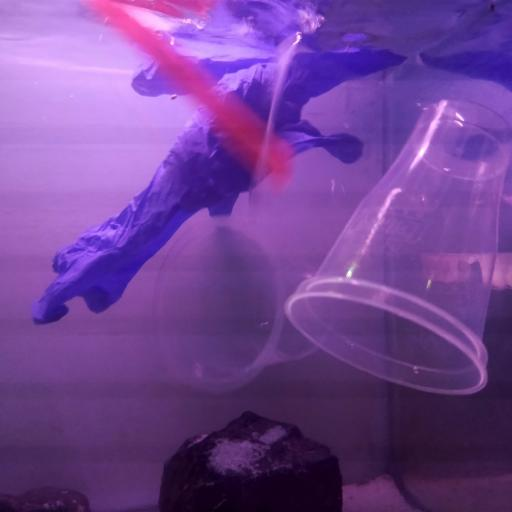glove: (37, 43, 501, 324)
plastic_cup: (282, 98, 512, 395), (148, 214, 334, 395)
plastic_straw: (75, 0, 291, 187)
